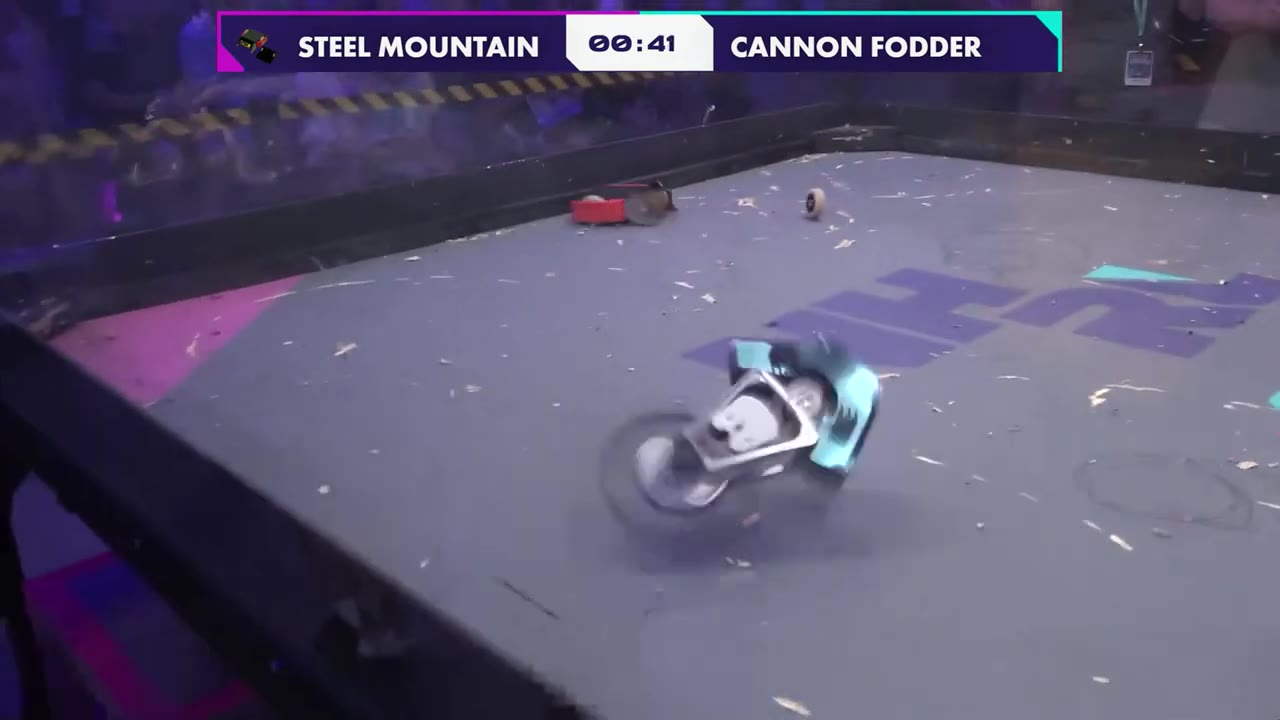combatbot: (599, 326, 881, 544), (568, 181, 679, 230)
wheel: (804, 186, 823, 216)
